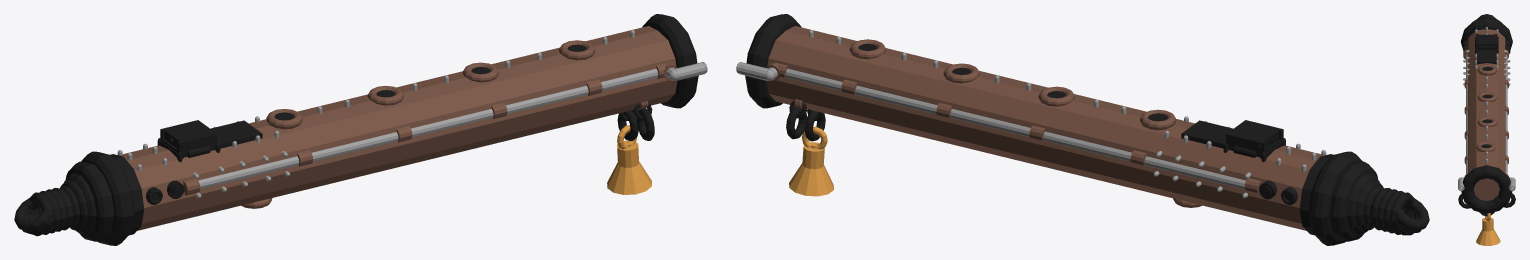
File: c-a-v-i-t-y-neck-flute-by-justin-randall-3jK8pKJm-gq.glb
3 views of the same model, side by side, from view 1: azimuth 30°, elevation 25°; view 2: azimuth 150°, elevation 25°; view 3: azimuth 270°, elevation 25° (orthographic). The views are drawn at different scales.
Parts seen in each view (by area): view 1: group646472425, group2027605305, group41650166, group1979396457, group153319138, group758801874, group1782491875, group1306283520, group344483666, group1688190164, group674465642, group729958211 (+7 smaller); view 2: group646472425, group716870591, group41650166, group1979396457, group153319138, group758801874, group1782491875, group1306283520, group344483666, group1688190164, group674465642, group1129215520 (+7 smaller); view 3: group646472425, group1979396457, group153319138, group41650166, group716870591, group1782491875, group1306283520, group2027605305, group1129215520, group1889867255, group557863343, group1704476095 (+9 smaller).
Part boxes in pixels (box(x1,y1,x2,y2)): group646472425: box(120, 26, 677, 230); group2027605305: box(198, 68, 658, 189); group41650166: box(81, 151, 134, 245); group1979396457: box(642, 14, 698, 108); group153319138: box(607, 125, 651, 194); group758801874: box(65, 161, 114, 241); group1782491875: box(160, 120, 262, 157); group1306283520: box(110, 154, 144, 235); group344483666: box(14, 197, 48, 231); group1688190164: box(64, 173, 96, 234); group674465642: box(60, 179, 88, 231); group729958211: box(177, 133, 217, 153); group646472425: box(766, 26, 1322, 230); group716870591: box(785, 68, 1245, 189); group41650166: box(1309, 151, 1362, 245); group1979396457: box(745, 14, 801, 108); group153319138: box(789, 126, 833, 196); group758801874: box(1329, 161, 1378, 241); group1782491875: box(1181, 120, 1283, 157); group1306283520: box(1299, 154, 1333, 235); group344483666: box(1395, 198, 1429, 230); group1688190164: box(1347, 173, 1379, 234); group674465642: box(1355, 179, 1383, 231); group1129215520: box(1140, 109, 1176, 130); group646472425: box(1468, 29, 1505, 200); group1979396457: box(1461, 165, 1512, 213); group153319138: box(1476, 213, 1500, 245); group41650166: box(1460, 17, 1512, 49); group716870591: box(1505, 54, 1507, 173); group1782491875: box(1477, 50, 1496, 64); group1306283520: box(1465, 24, 1507, 40); group2027605305: box(1466, 54, 1467, 173); group1129215520: box(1477, 64, 1497, 75); group1889867255: box(1477, 92, 1497, 101); group557863343: box(1477, 117, 1497, 126); group1704476095: box(1476, 142, 1495, 151).
Size of the model in its own units: 3.15 by 0.7607 by 0.4425.
